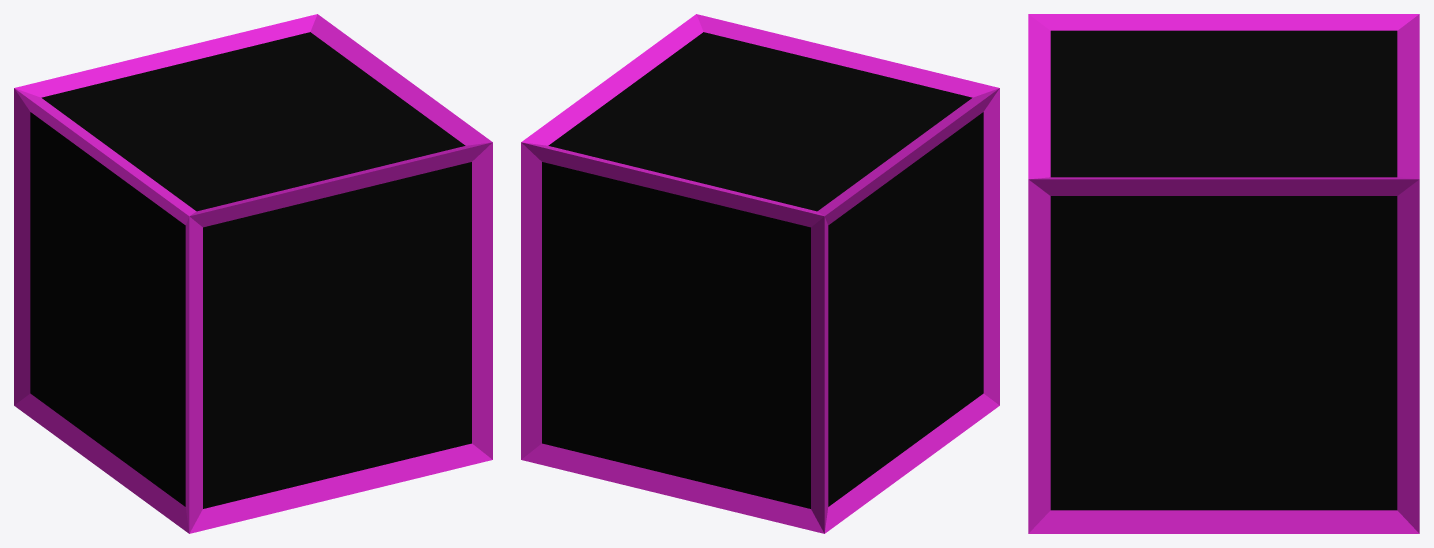
Rendered from Block.fbx.
3 views of the same model, side by side, from view 1: azimuth 30°, elevation 25°; view 2: azimuth 150°, elevation 25°; view 3: azimuth 270°, elevation 25° (orthographic). The views are drawn at different scales.
Visible parts, largest first — view 1: Cube.001, Cube; view 2: Cube.001, Cube; view 3: Cube.001, Cube.
Boxes of the visible parts, <box> form: Cube.001: <box>30,32,471,508</box>; Cube: <box>14,14,492,533</box>; Cube.001: <box>542,32,983,508</box>; Cube: <box>521,14,999,533</box>; Cube.001: <box>1050,30,1397,510</box>; Cube: <box>1028,14,1419,533</box>.
Size of the model in its own units: 209 by 209 by 209.
